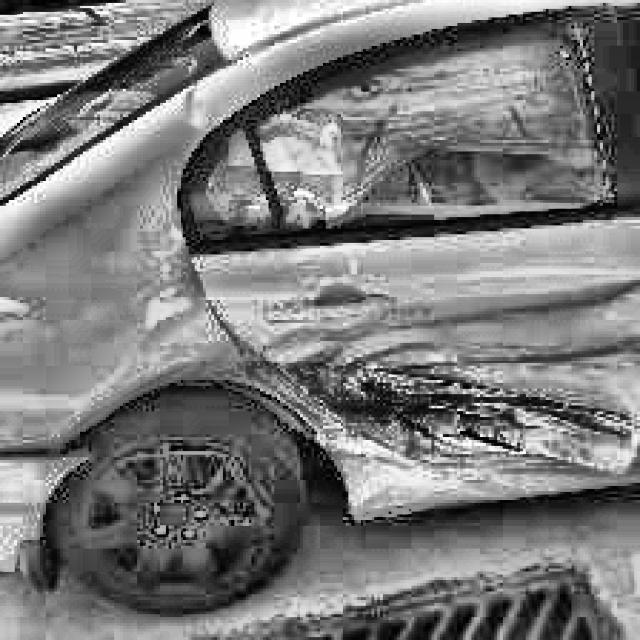door_dent: (269, 291, 638, 487)
